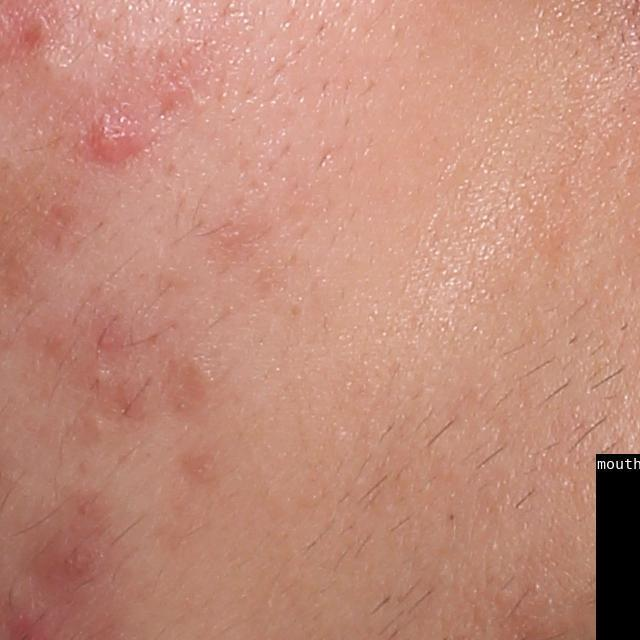papule: (92, 124, 139, 161)
